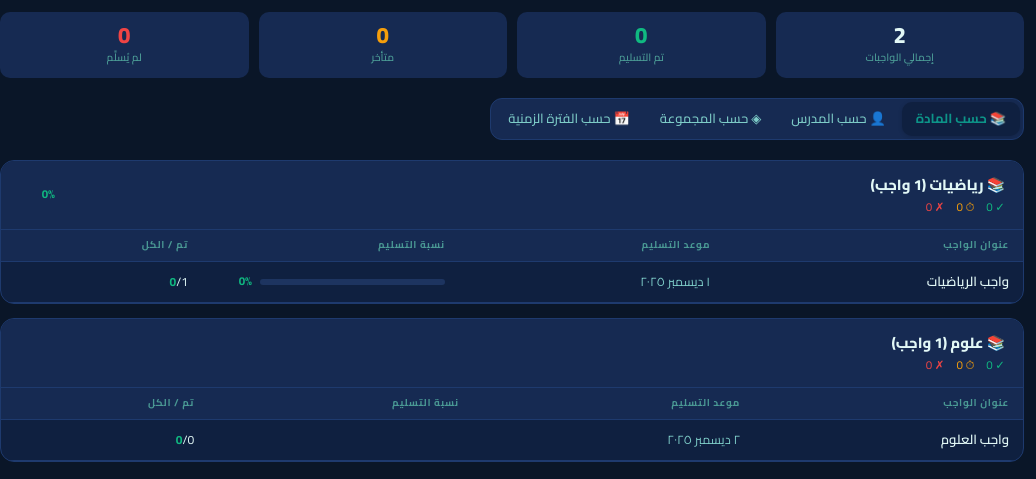
Test: HomeworkReports — "by group" breakdown and period filter resolve grade-targeted homeworks (C3 fix) › the "by period" group filter narrows to only the homework whose grade matches the selected group
Check: the text "واجب الرياضيات" is shown, box [724,262,1023,302]
Click the button "📅 حسب الفترة الزمنية": (569, 119) [494,102,644,136]
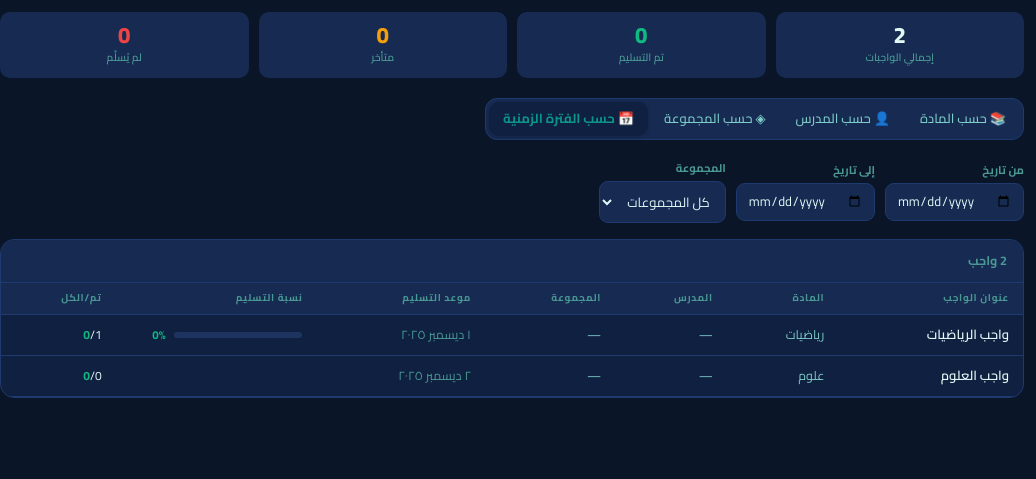
Check: the text "2 واجب" is shown, box [1,240,1023,283]
Select "مجموعة أ" in the dropdown: (662, 202) [599,181,726,223]
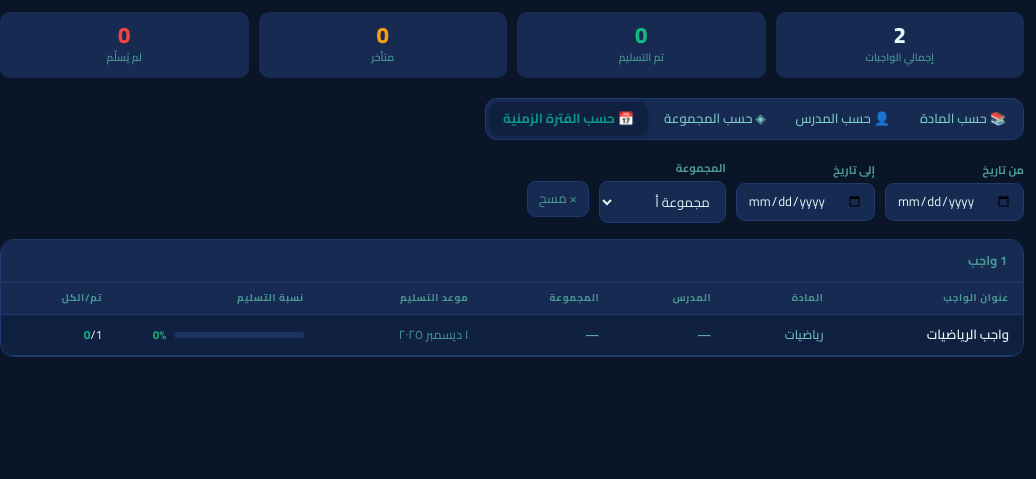
Check: the text "واجب الرياضيات" is shown, box [838,315,1023,356]
Check: the text "1 واجب" is shown, box [1,240,1023,283]
Check: the text "واجب العلوم" is gone
